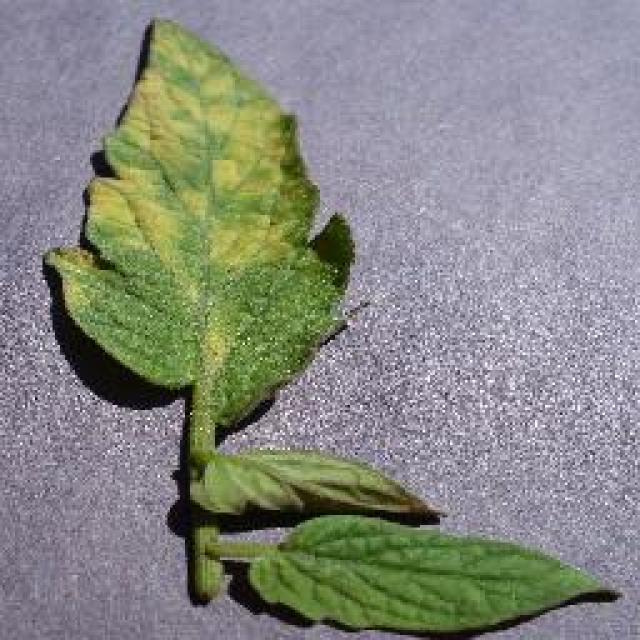Tomato mold leaf: (41, 17, 359, 425), (170, 448, 442, 532)
